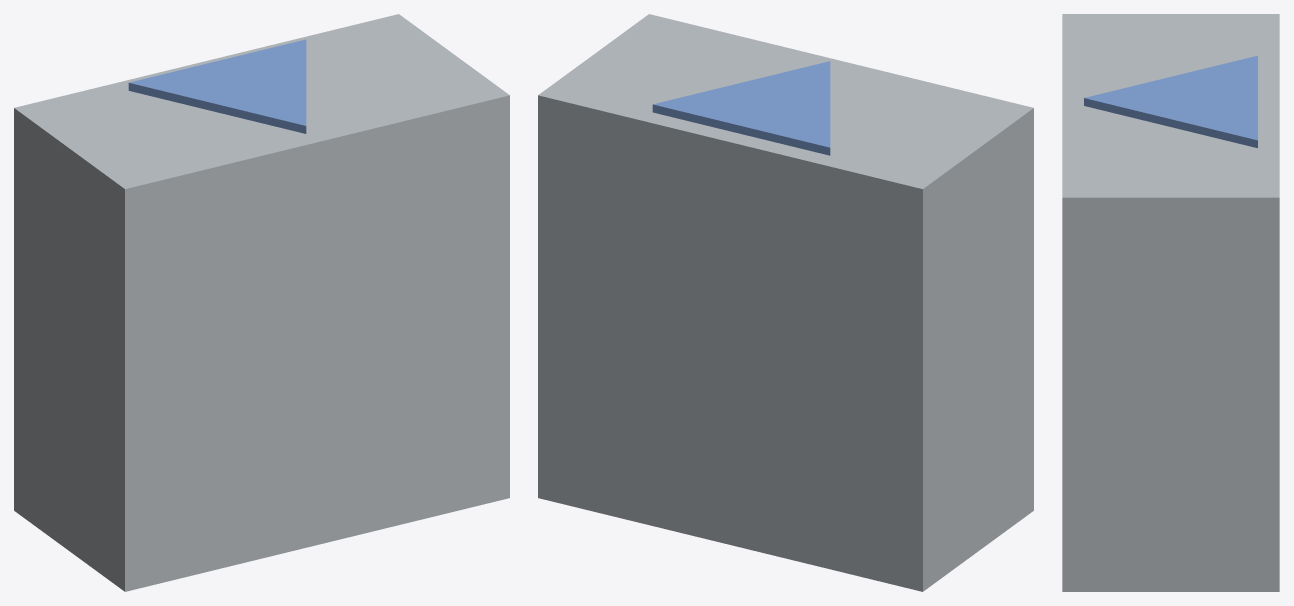
File: Part Studio 1 - Part 7.gltf
The picture shows the model from 3 angles, left to right: view 1: azimuth 30°, elevation 25°; view 2: azimuth 150°, elevation 25°; view 3: azimuth 270°, elevation 25°; orthographic projection. The views are drawn at different scales.
Visible parts, largest first — view 1: Part 7; view 2: Part 7; view 3: Part 7.
Part boxes in pixels (box(x1,y1,x2,y2)): Part 7: box(14, 14, 509, 591); Part 7: box(538, 14, 1033, 591); Part 7: box(1062, 14, 1279, 591).
Size of the model in its own units: 0.1 by 0.104 by 0.05.
